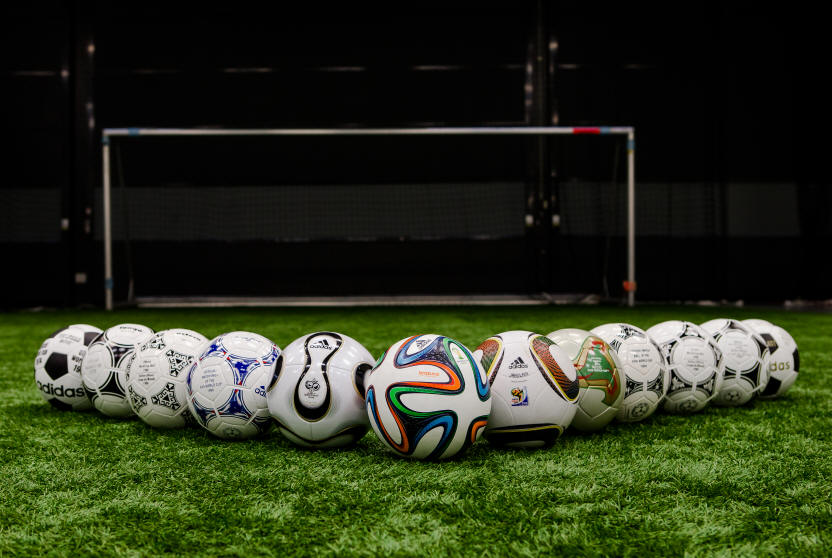football: (367, 334, 486, 458), (475, 327, 578, 448), (266, 333, 371, 448), (545, 327, 627, 438), (190, 331, 269, 439), (592, 323, 667, 426), (127, 327, 204, 427), (648, 316, 722, 416), (36, 320, 101, 421), (702, 313, 770, 408), (85, 324, 150, 416), (741, 313, 805, 400)
